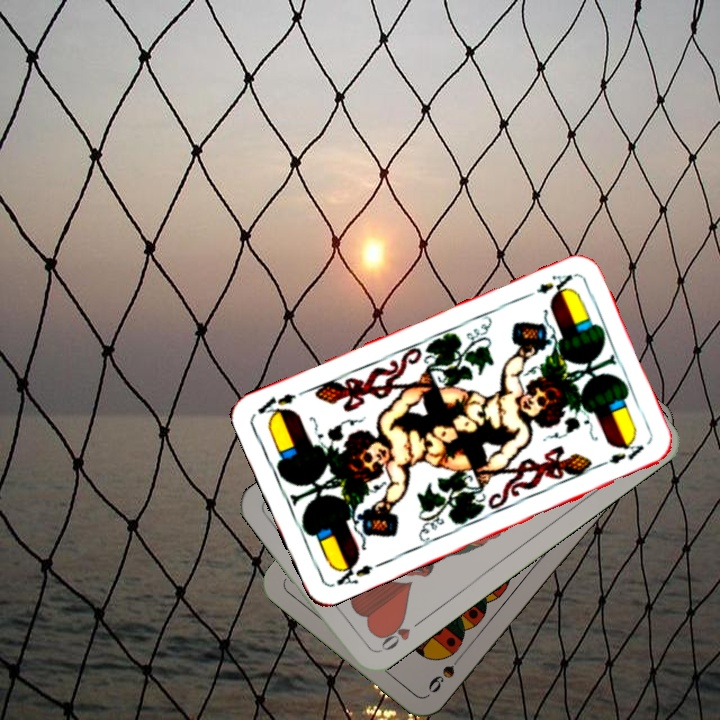EA: (331, 556, 376, 588), (532, 270, 576, 300)
HO: (373, 613, 425, 656)
S9: (424, 647, 468, 696)
